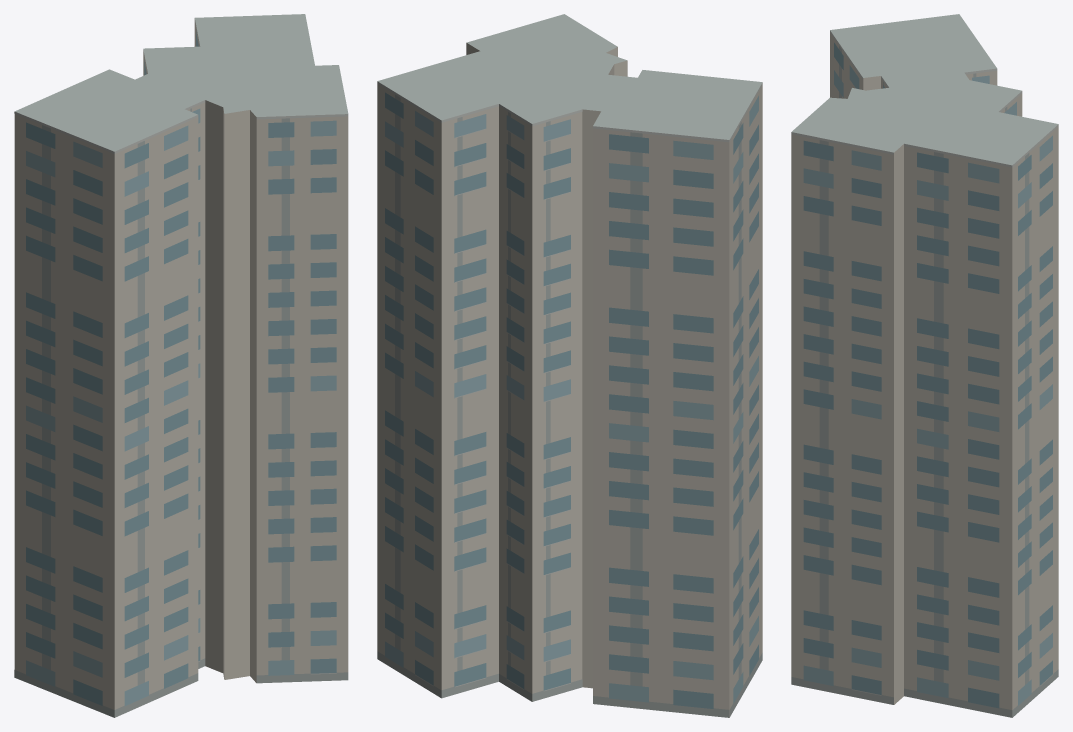
The model's file is residential-e01c747e-8a6f-41bc-a36a-9c9e5da62dc5.glb.
3 renders of one model, left to right at view 1: azimuth 30°, elevation 25°; view 2: azimuth 150°, elevation 25°; view 3: azimuth 270°, elevation 25°, orthographic. The views are drawn at different scales.
Parts seen in each view (by area): view 1: residential-e01c747e-8a6f-41bc-a36a-9c9e5da62dc5.tmp; view 2: residential-e01c747e-8a6f-41bc-a36a-9c9e5da62dc5.tmp; view 3: residential-e01c747e-8a6f-41bc-a36a-9c9e5da62dc5.tmp.
Boxes of the visible parts, x1,y1,x2,y2 form: residential-e01c747e-8a6f-41bc-a36a-9c9e5da62dc5.tmp: (14, 14, 348, 717); residential-e01c747e-8a6f-41bc-a36a-9c9e5da62dc5.tmp: (377, 14, 762, 717); residential-e01c747e-8a6f-41bc-a36a-9c9e5da62dc5.tmp: (791, 14, 1058, 717).
Bounding box in the file's own units: 34.68 × 59 × 25.89.
